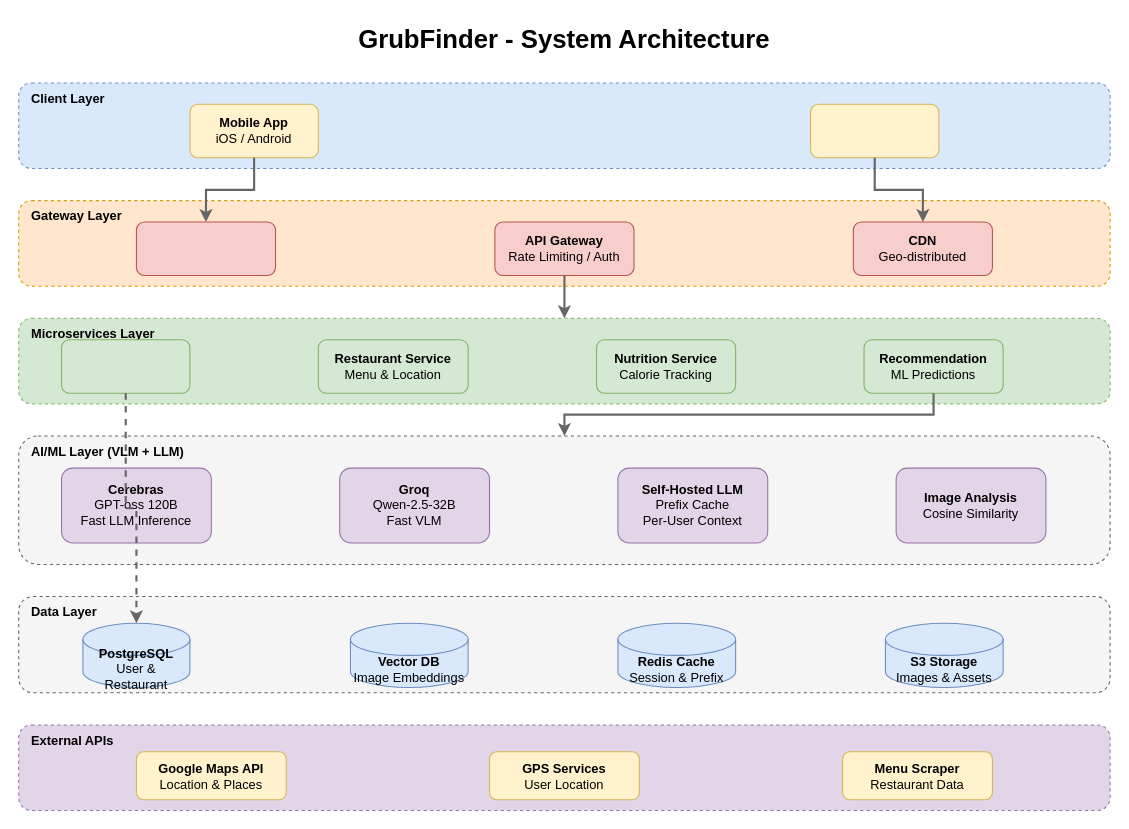
The diagram is 1129 pixels wide and 829 high, and some of its shapes have lost their labels. Each missing label, with the box of its shape:
Load Balancer Auto-scaling: (135, 221, 276, 276)
User Service Auth & Profiles: (60, 339, 190, 393)
Web App React PWA: (809, 103, 939, 158)
